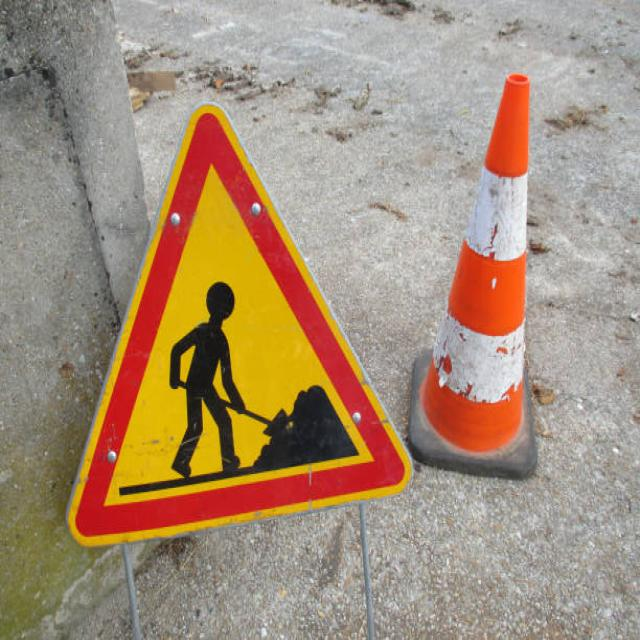Traffic Cone: (403, 12, 584, 561)
